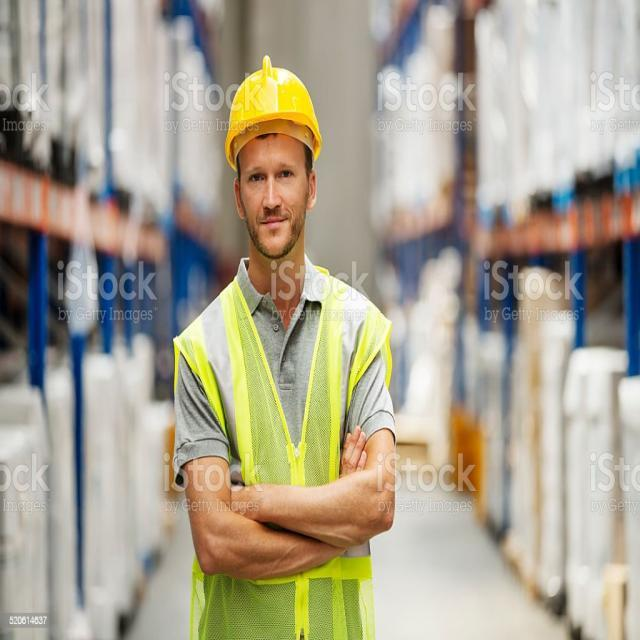helmet: (222, 80, 318, 167)
jacket: (184, 278, 360, 606)
